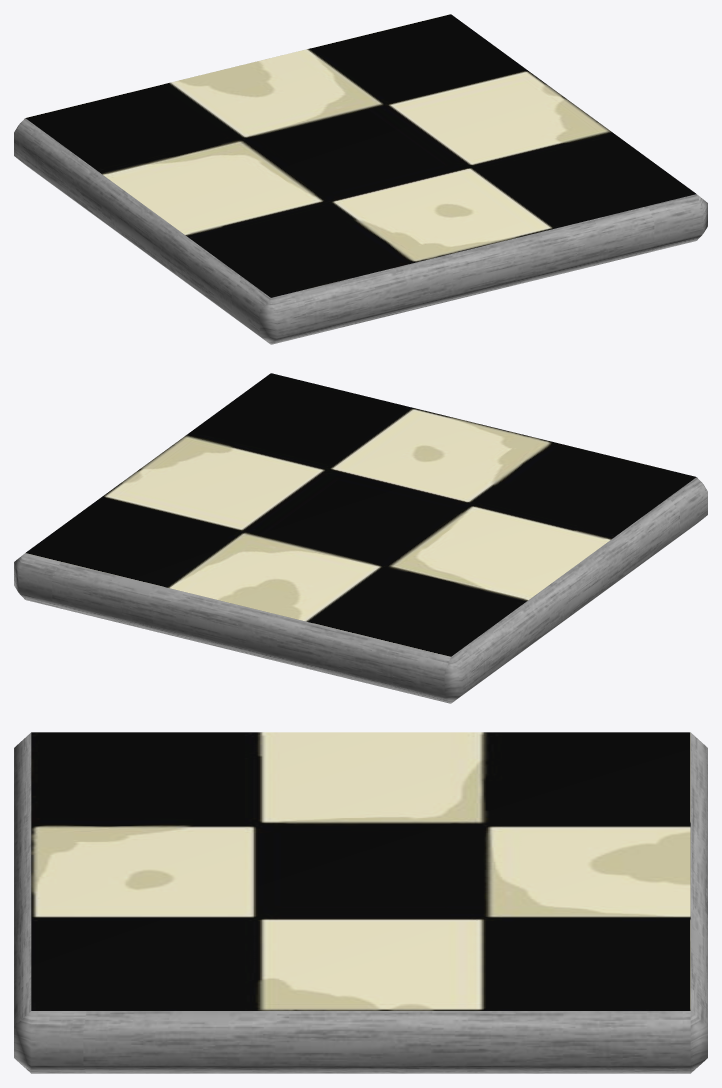
File: Platform.fbx
The picture shows the model from 3 angles, top to bottom: view 1: azimuth 30°, elevation 25°; view 2: azimuth 150°, elevation 25°; view 3: azimuth 270°, elevation 25°; orthographic projection. The views are drawn at different scales.
Parts seen in each view (by area): view 1: Platform; view 2: Platform; view 3: Platform.
Boxes of the visible parts, x1,y1,x2,y2 form: Platform: [14, 14, 707, 344]; Platform: [14, 373, 707, 703]; Platform: [14, 732, 707, 1073].
Bounding box in the file's own units: 10 × 1 × 10.
